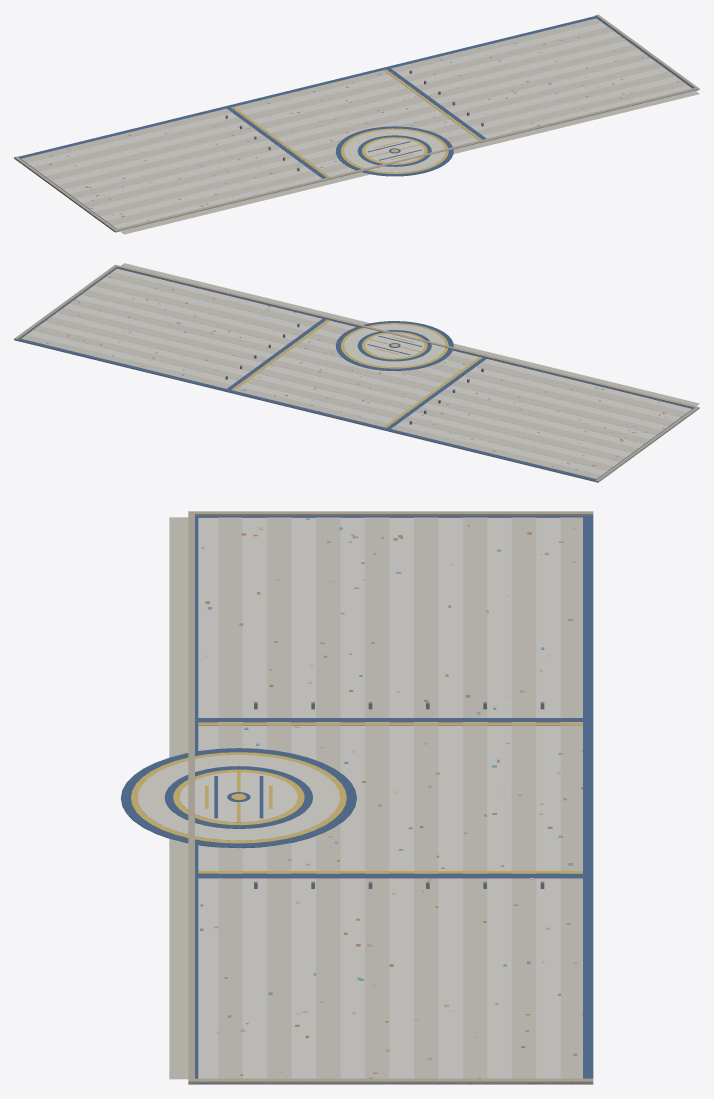
File: gate_plaza.glb
3 renders of one model, top to bottom at view 1: azimuth 30°, elevation 25°; view 2: azimuth 150°, elevation 25°; view 3: azimuth 270°, elevation 25°, orthographic. The views are drawn at different scales.
Parts seen in each view (by area): view 1: gate_plaza; view 2: gate_plaza; view 3: gate_plaza.
Boxes of the visible parts, x1,y1,x2,y2 form: gate_plaza: (14,14,699,234); gate_plaza: (14,263,699,482); gate_plaza: (120,511,593,1084).
Size of the model in its own units: 80 by 0.45 by 28.
